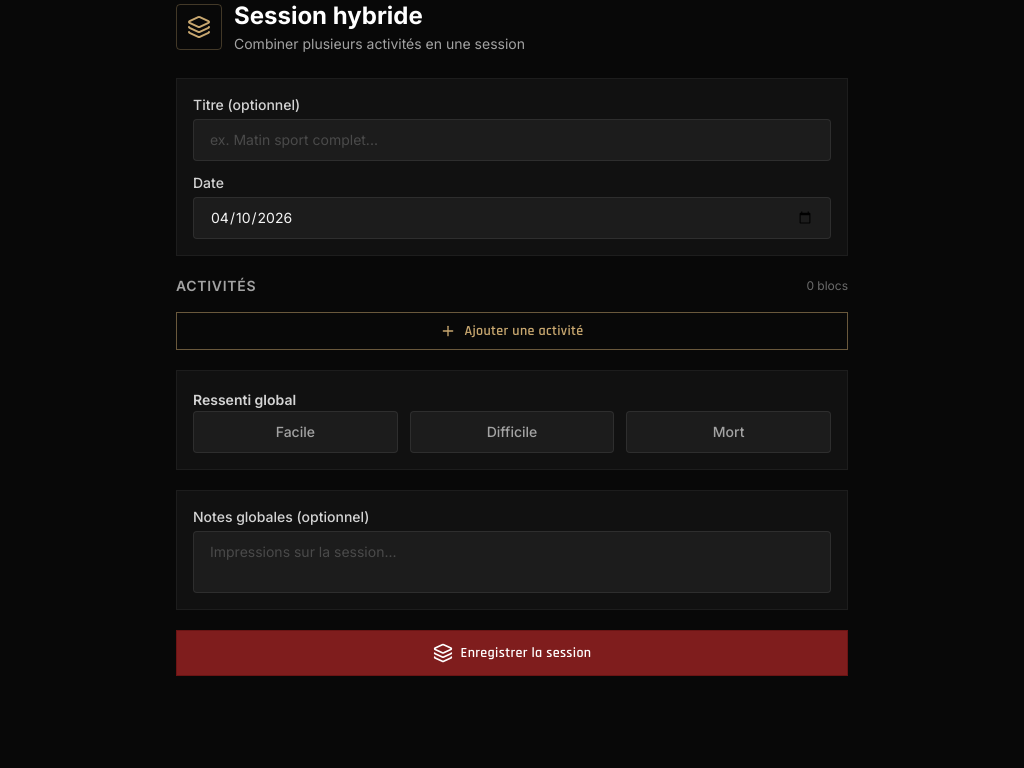
Test: HybridSessionPage › Suppression de bloc › supprime un bloc au clic sur la corbeille
Click the button "Ajouter une activité" at coordinates (512, 331), box [176,312,848,350]
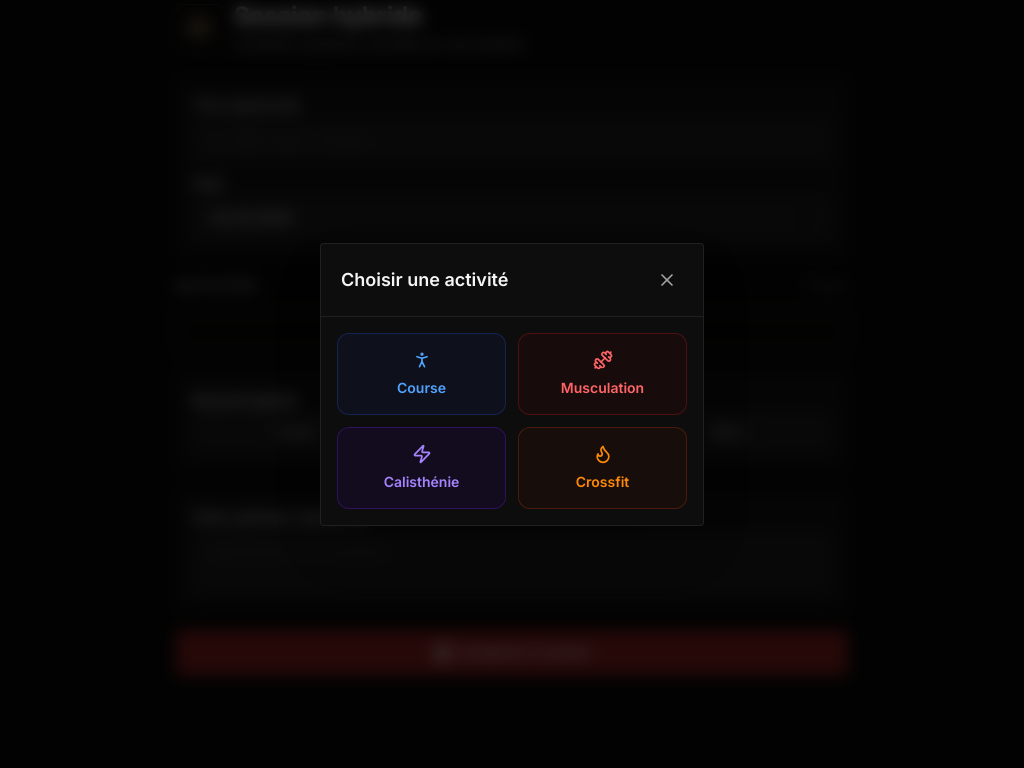
Click the button "Course" at coordinates (422, 374), box [337,332,506,414]
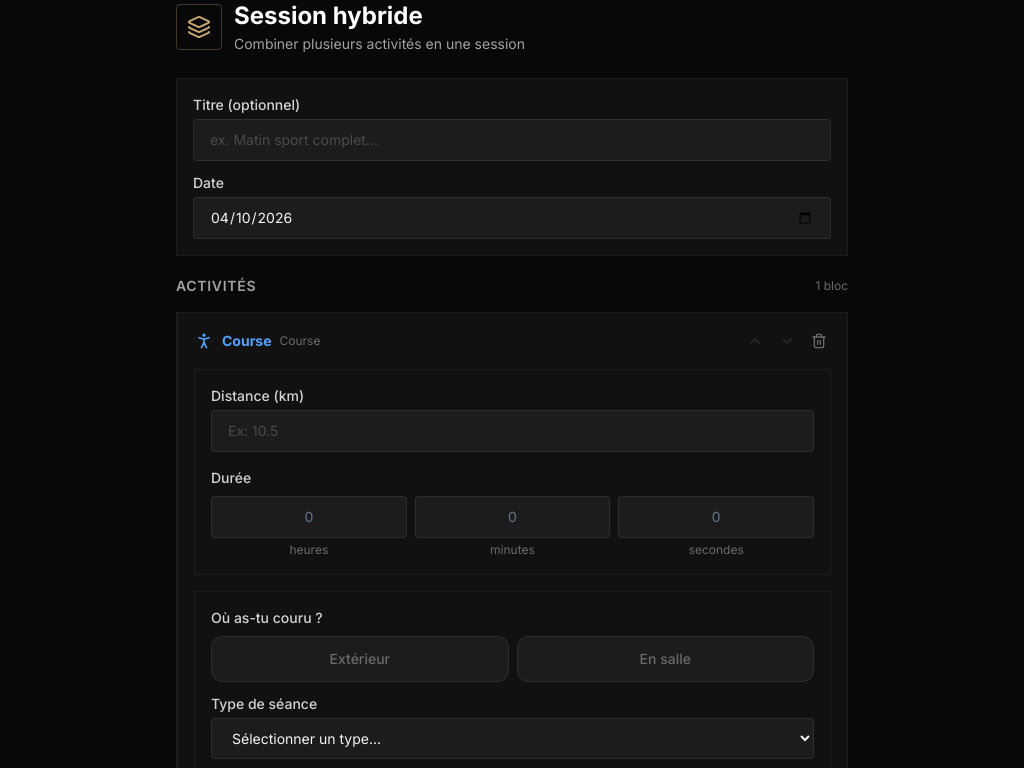
Expected: the text "1 bloc" is shown, [815,278,848,294]
Click the button titled "Supprimer le bloc" at coordinates (819, 341), box [807,329,831,353]
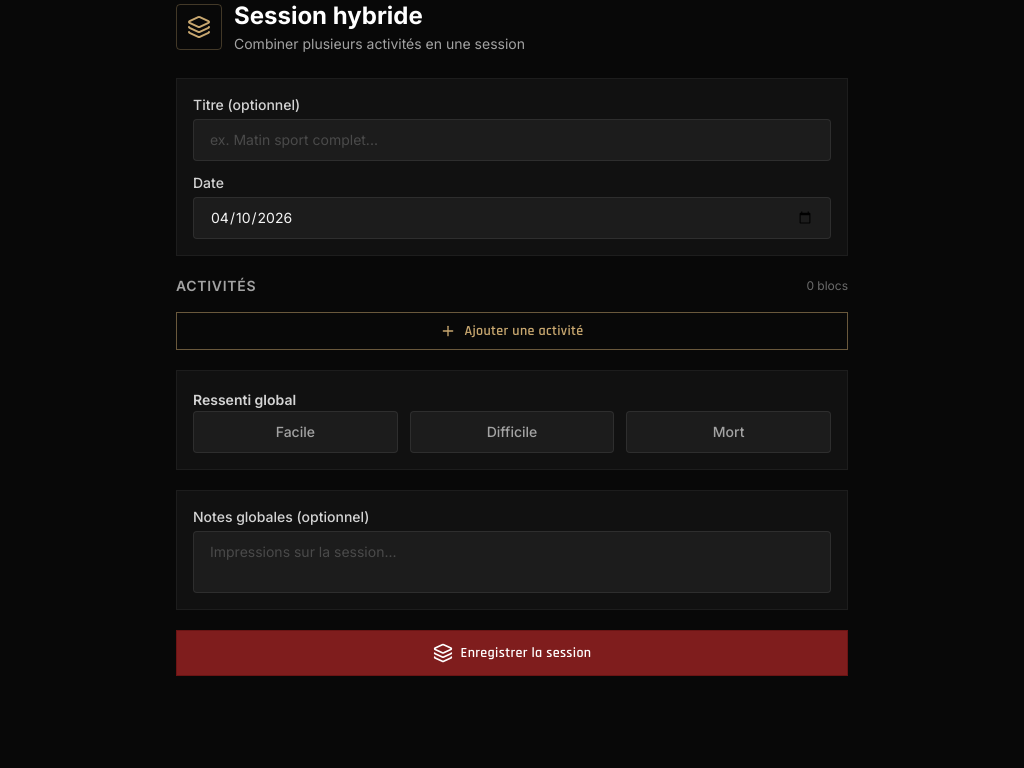
Expected: the text "0 blocs" is shown, [806,278,848,294]
